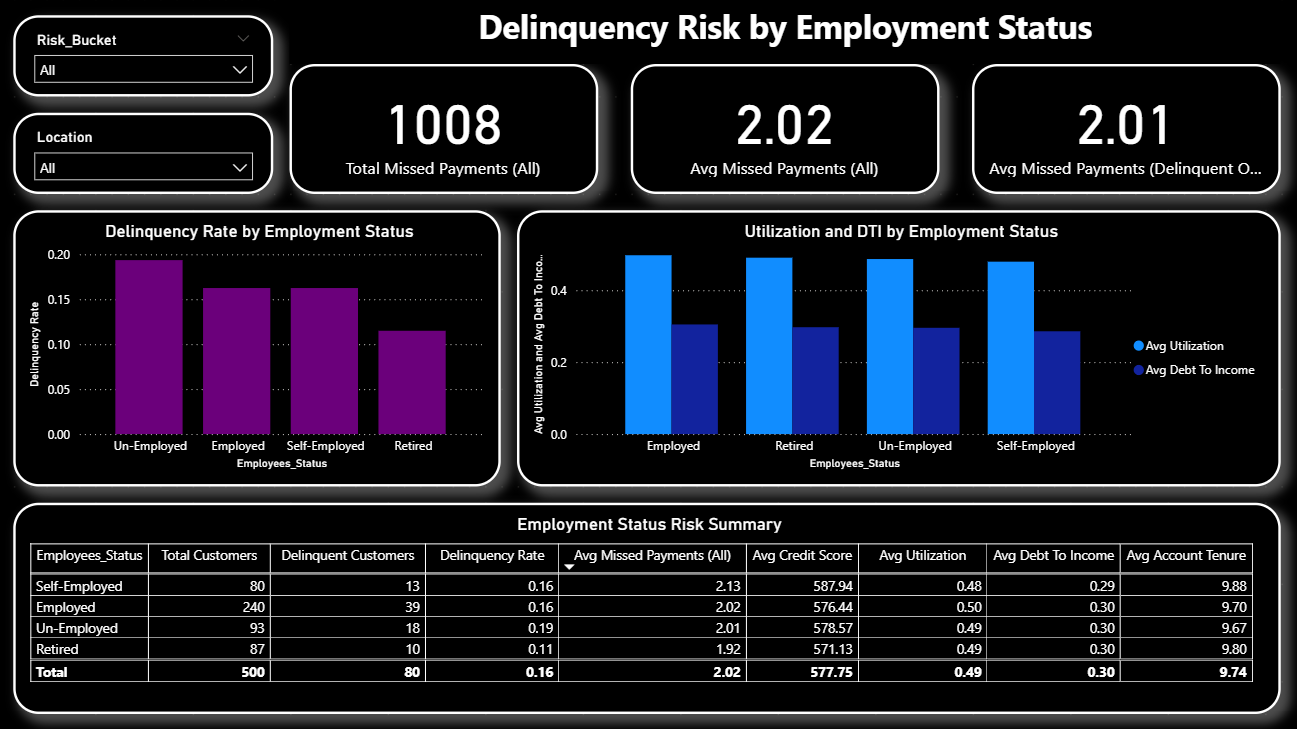

The dashboard page shown, as its layout file describes it:
{"tool":"powerbi","page":{"name":"Employment vs Risk","canvas":[1280,720],"ordinal":1},"visuals":[{"type":"card","fields":{"Values":["Delinquency.Total Missed Payments (All)"]},"box":[288,64,304,128],"z":0},{"type":"card","fields":{"Values":["Delinquency.Avg Missed Payments (Delinquent Only)"]},"box":[960,64,304,128],"z":1000},{"type":"card","fields":{"Values":["Delinquency.Avg Missed Payments (All)"]},"box":[624,64,304,128],"z":2000},{"type":"slicer","title":"ddd","fields":{"Values":["Delinquency.Risk_Bucket"]},"box":[16,16,256,80],"z":3000},{"type":"slicer","fields":{"Values":["Delinquency.Location"]},"box":[16,112,256,80],"z":4000},{"type":"clusteredColumnChart","title":"Delinquency Rate by Employment Status","fields":{"Y":["Delinquency.Delinquency Rate"],"Category":["Delinquency.Employees_Status"]},"box":[16,208,480,272],"z":5000},{"type":"clusteredColumnChart","title":"Utilization and DTI by Employment Status","fields":{"Y":["Delinquency.Avg Utilization","Delinquency.Avg Debt To Income"],"Category":["Delinquency.Employees_Status"]},"box":[512,208,752,272],"z":6000},{"type":"tableEx","title":"Employment Status Risk Summary","fields":{"Values":["Delinquency.Employees_Status","Delinquency.Total Customers","Delinquency.Delinquent Customers","Delinquency.Delinquency Rate","Delinquency.Avg Missed Payments (All)","Delinquency.Avg Credit Score","Delinquency.Avg Utilization","Delinquency.Avg Debt To Income","Delinquency.Avg Account Tenure"]},"box":[16,496,1248,208],"z":7000},{"type":"textbox","box":[288,0,976,64],"z":7001}]}

Visuals, with their boxes in screenshot pixels (x1, y1, x2, y2), scaled from the page's 1280x720 canvas onto the 1297x729 screenshot:
card - Delinquency.Total Missed Payments (All): [292, 65, 600, 194]
card - Delinquency.Avg Missed Payments (Delinquent Only): [973, 65, 1281, 194]
card - Delinquency.Avg Missed Payments (All): [632, 65, 940, 194]
"ddd" slicer: [16, 16, 276, 97]
slicer - Delinquency.Location: [16, 113, 276, 194]
"Delinquency Rate by Employment Status" clusteredColumnChart: [16, 211, 503, 486]
"Utilization and DTI by Employment Status" clusteredColumnChart: [519, 211, 1281, 486]
"Employment Status Risk Summary" tableEx: [16, 502, 1281, 713]
textbox: [292, 0, 1281, 65]
